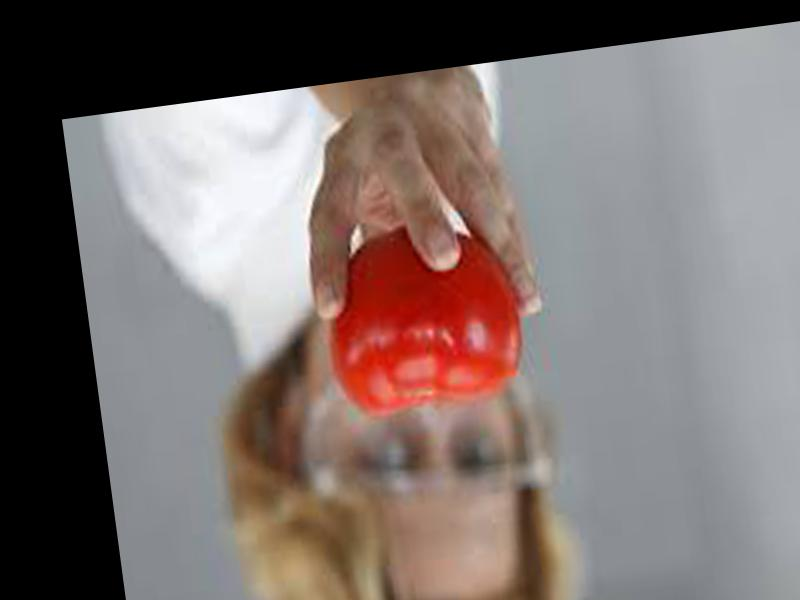Tomato: (312, 218, 528, 417)
